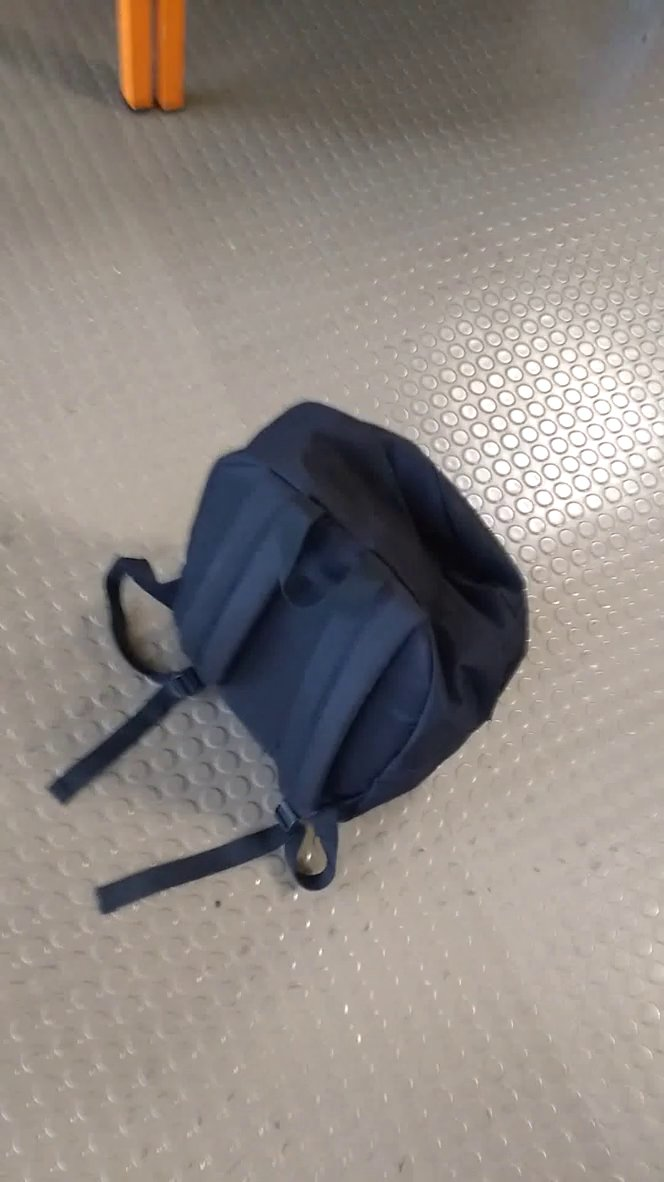bag: (48, 391, 547, 936)
